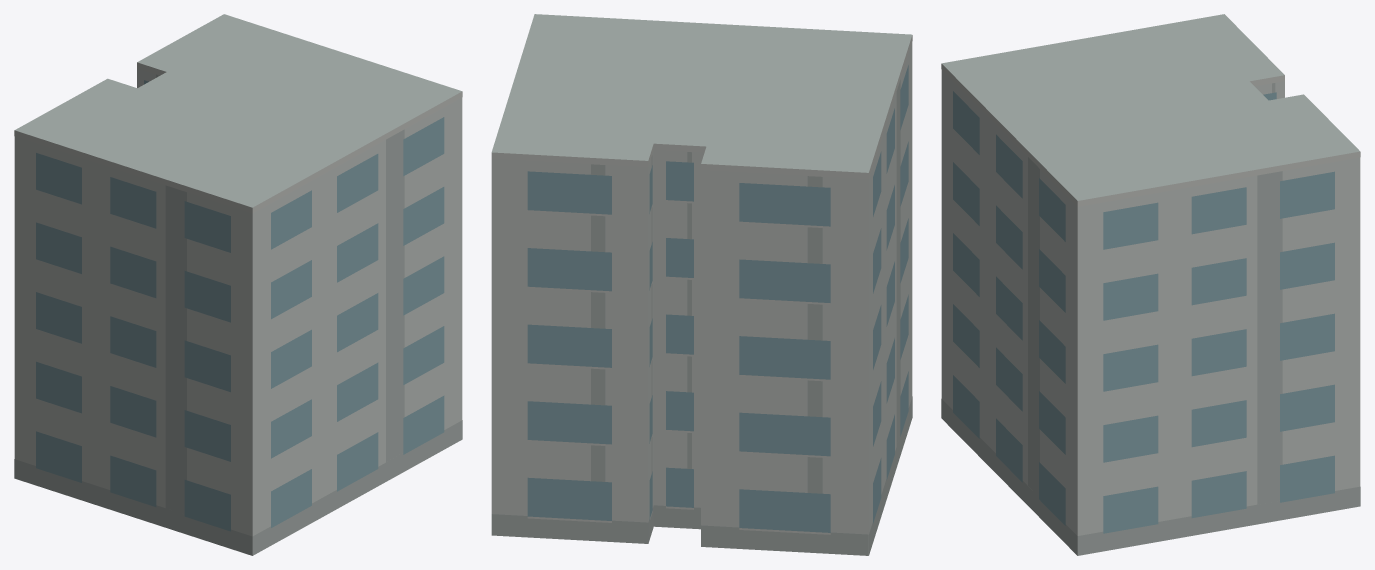
Rendered from survey-upis-32889205.glb.
The picture shows the model from 3 angles, left to right: view 1: azimuth 30°, elevation 25°; view 2: azimuth 150°, elevation 25°; view 3: azimuth 270°, elevation 25°; orthographic projection. The views are drawn at different scales.
Parts seen in each view (by area): view 1: survey-upis-32889205.tmp; view 2: survey-upis-32889205.tmp; view 3: survey-upis-32889205.tmp.
Part boxes in pixels (<box>): survey-upis-32889205.tmp: <box>14,14,462,555</box>; survey-upis-32889205.tmp: <box>491,14,912,555</box>; survey-upis-32889205.tmp: <box>941,14,1360,555</box>.
Bounding box in the file's own units: 16.28 × 14.4 × 15.42.
